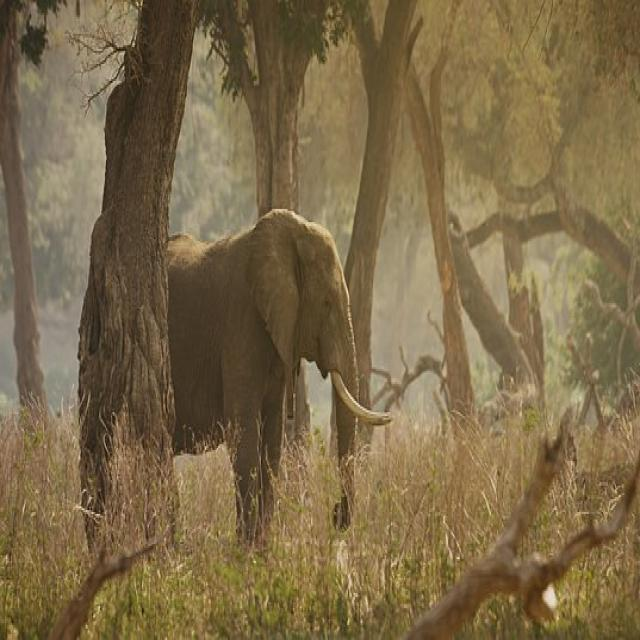Elephant: (167, 211, 384, 551)
